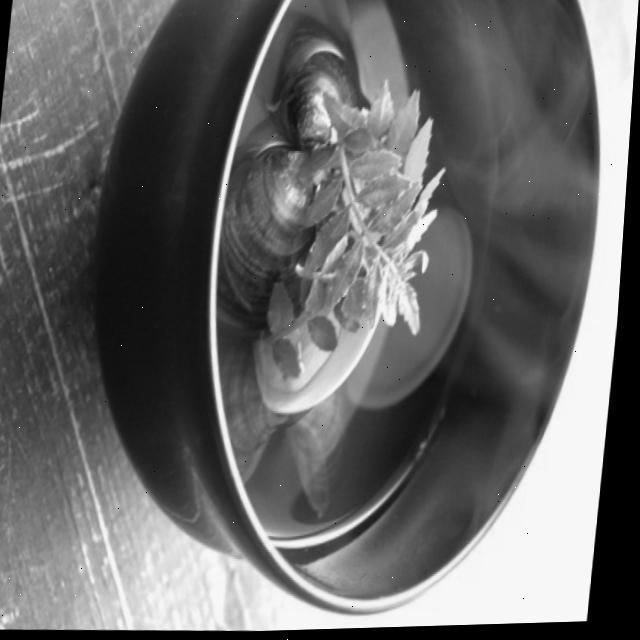汤锅炖物: (121, 0, 620, 615)
